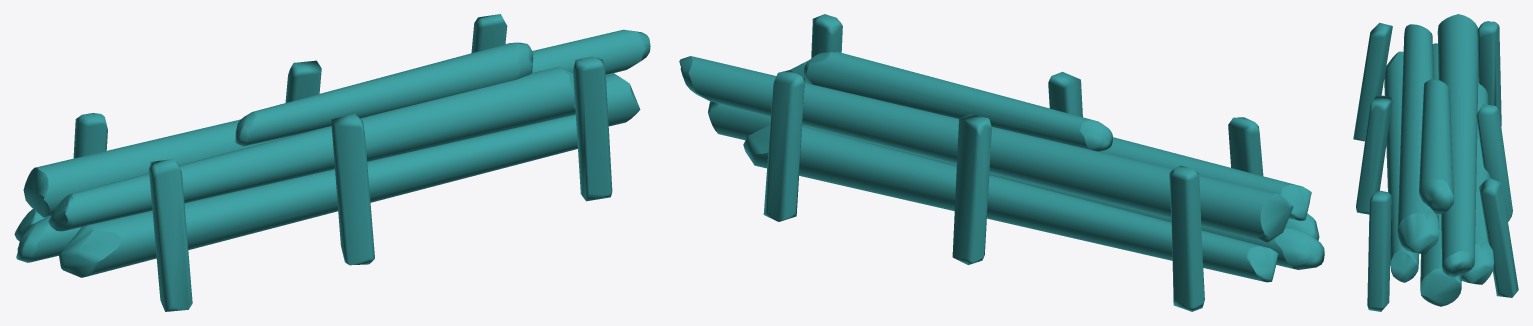
The model's file is SM_Construction_Kit_Wood.fbx.
3 renders of one model, left to right at view 1: azimuth 30°, elevation 25°; view 2: azimuth 150°, elevation 25°; view 3: azimuth 270°, elevation 25°, orthographic. The views are drawn at different scales.
Visible parts, largest first — view 1: Construction_Kit_Wood; view 2: Construction_Kit_Wood; view 3: Construction_Kit_Wood.
Part boxes in pixels (left/top/right/bottom): Construction_Kit_Wood: left=14, top=14, right=650, bottom=311; Construction_Kit_Wood: left=679, top=14, right=1324, bottom=311; Construction_Kit_Wood: left=1353, top=14, right=1518, bottom=311.
Bounding box in the file's own units: 441 × 90.67 × 122.
